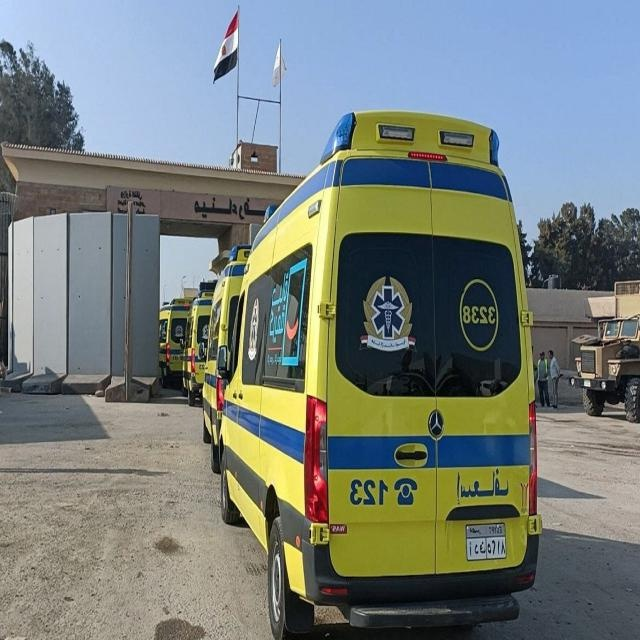Ambulance: (217, 108, 543, 637)
person: (548, 349, 562, 408), (537, 350, 551, 406)
